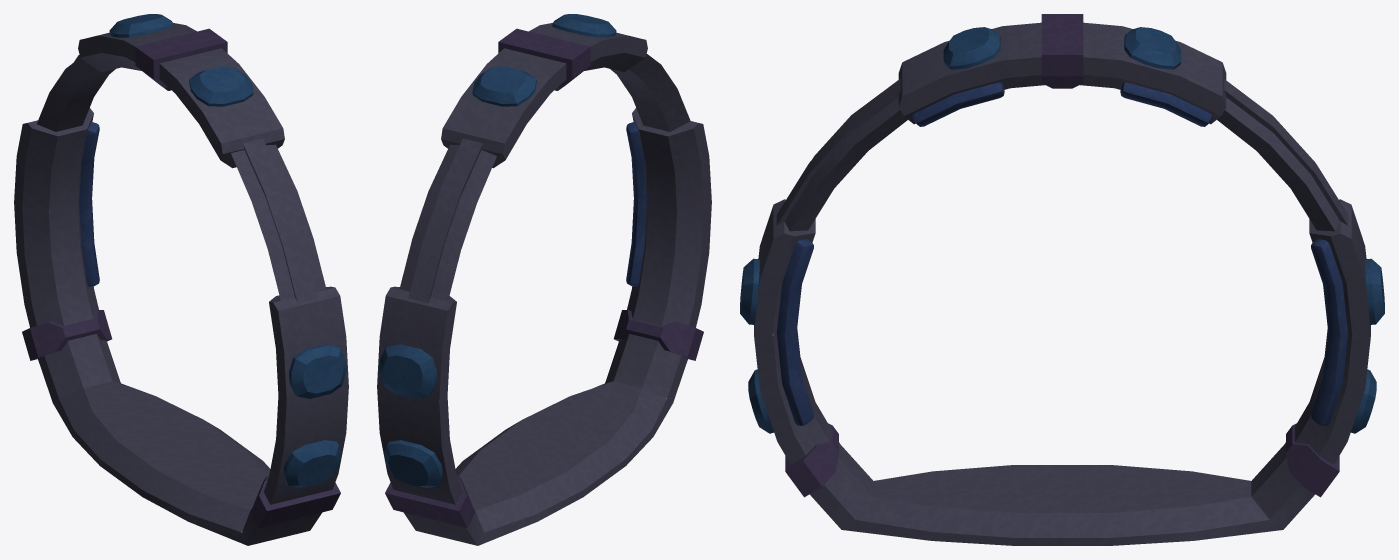
File: IE_Portal.fbx
3 renders of one model, left to right at view 1: azimuth 30°, elevation 25°; view 2: azimuth 150°, elevation 25°; view 3: azimuth 270°, elevation 25°, orthographic. The views are drawn at different scales.
Parts seen in each view (by area): view 1: IE_Portal; view 2: IE_Portal; view 3: IE_Portal.
Part boxes in pixels (left/top/right/bottom): IE_Portal: left=14, top=14, right=348, bottom=545; IE_Portal: left=377, top=14, right=711, bottom=545; IE_Portal: left=740, top=14, right=1384, bottom=545.
Bounding box in the file's own units: 194 × 652 × 797.
Materials: 1 (1 with a texture image).
